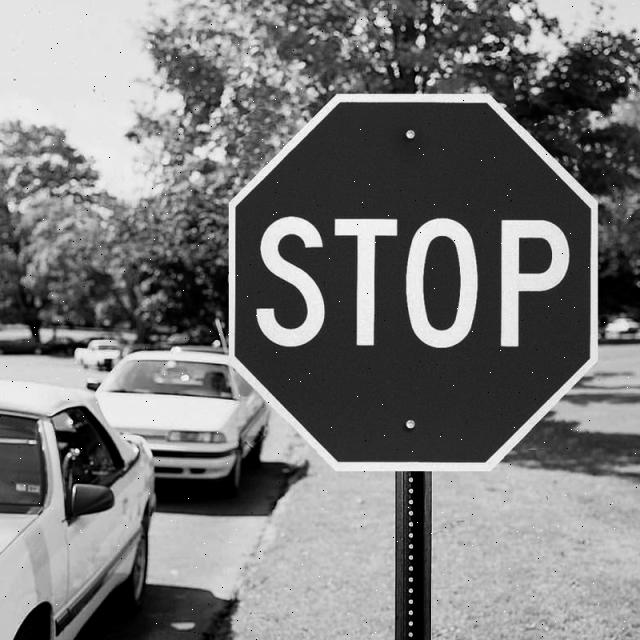Stop-sign: (210, 61, 620, 498)
